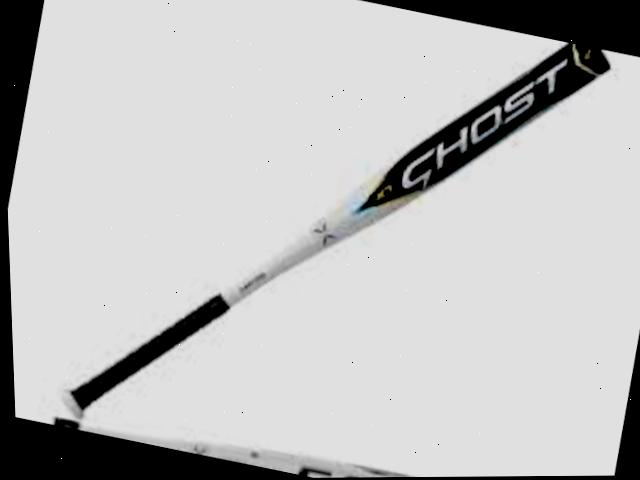baseball bat: (41, 0, 623, 480)
